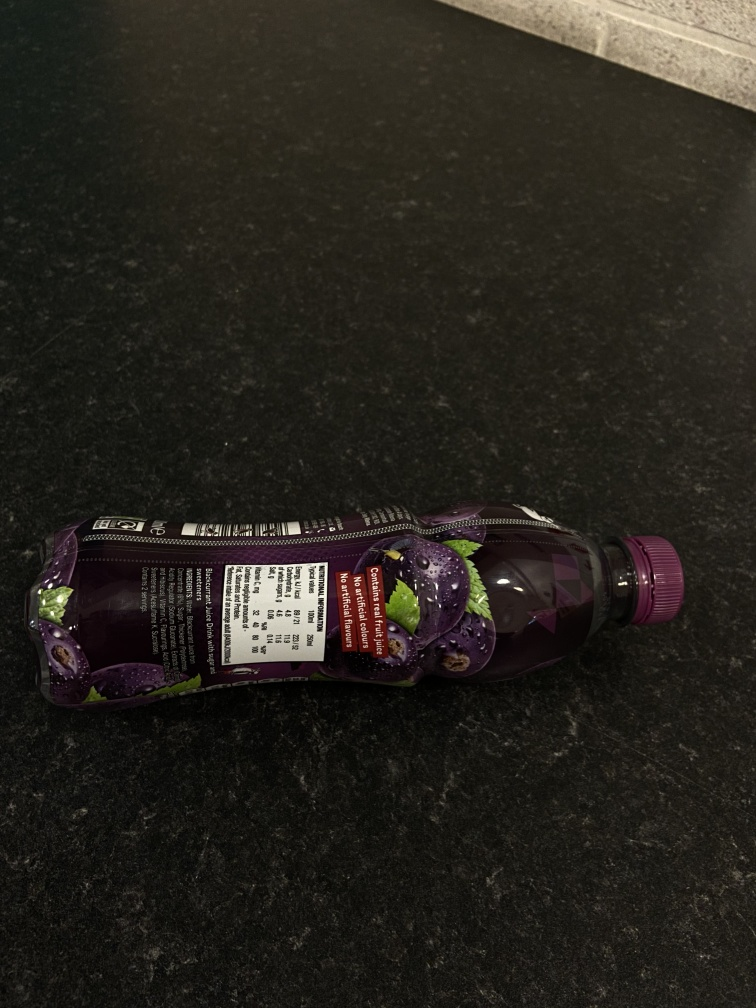bottle_purple: (18, 494, 687, 710)
